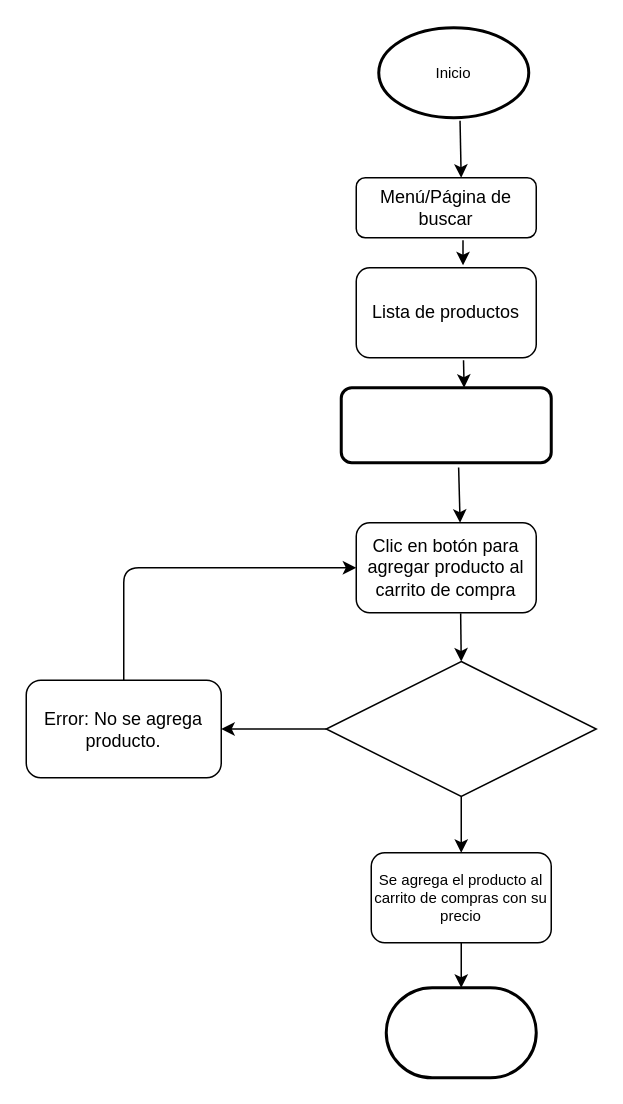
The diagram is 623 pixels wide and 1104 high, and some of its shapes have lost their labels. The centre of each missing label's shape, as x and y in pixels:
Agregar productos al carrito de compra.: the point at 445,425
Fin: the point at 460,1032
Verificación de datos válidos para agregar producto.: the point at 460,728
